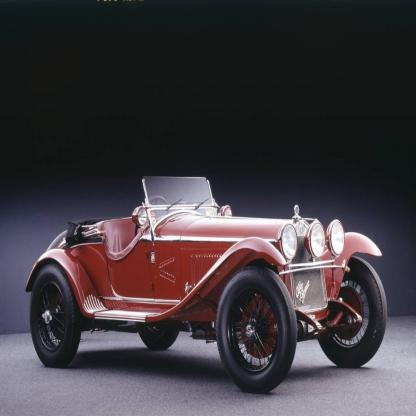Car: (26, 178, 389, 395)
